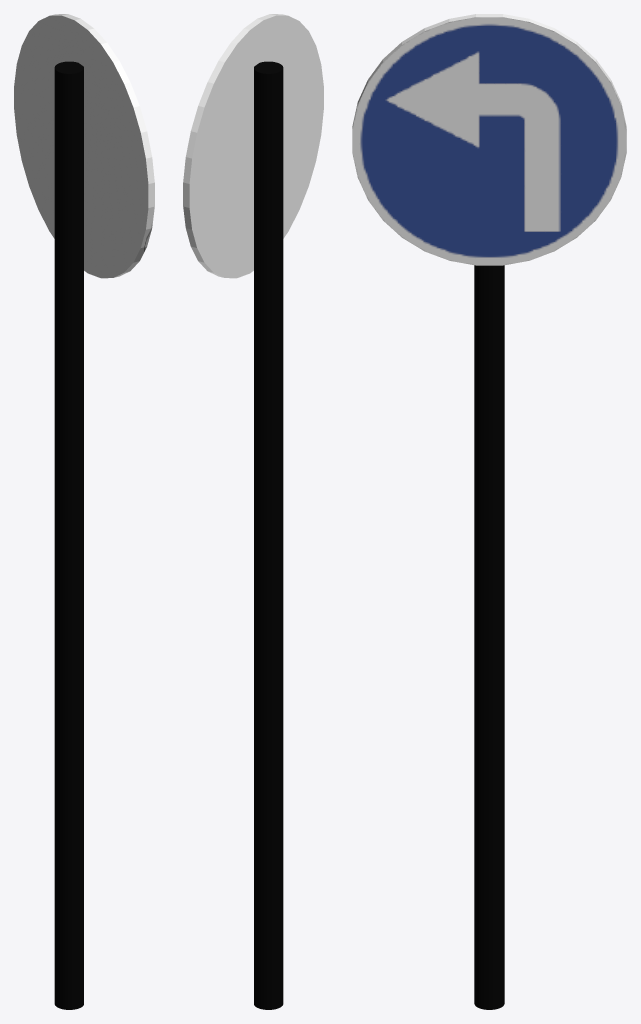
Rendered from Sign_left.fbx.
3 views of the same model, side by side, from view 1: azimuth 30°, elevation 25°; view 2: azimuth 150°, elevation 25°; view 3: azimuth 270°, elevation 25° (orthographic). The views are drawn at different scales.
Visible parts, largest first — view 1: Pole_Left, Sign_Left; view 2: Pole_Left, Sign_Left; view 3: Sign_Left, Pole_Left.
Part boxes in pixels (x1,y1,x2,y2): Pole_Left: (54,61,83,1009); Sign_Left: (14,14,154,278); Pole_Left: (254,61,283,1009); Sign_Left: (183,14,323,278); Sign_Left: (352,14,626,265); Pole_Left: (474,265,504,1009).
Bounding box in the file's own units: 5.85 × 176 × 43.79.
2 materials, 1 textured.
